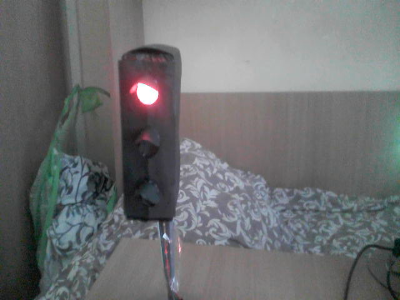trafficlight_red: (120, 53, 175, 217)
